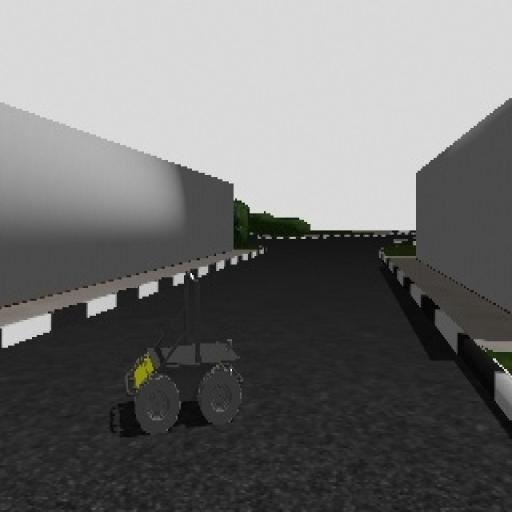huskya200: (104, 260, 255, 438)
